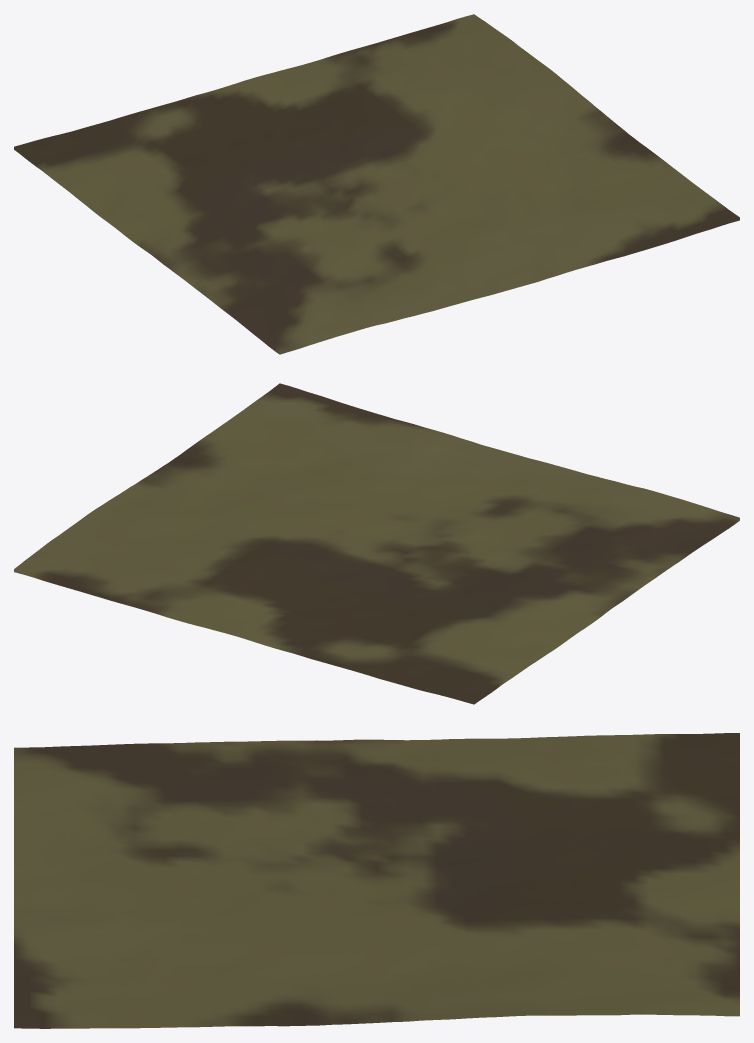
The model's file is land_m_15_07.glb.
3 renders of one model, top to bottom at view 1: azimuth 30°, elevation 25°; view 2: azimuth 150°, elevation 25°; view 3: azimuth 270°, elevation 25°, orthographic. The views are drawn at different scales.
Visible parts, largest first — view 1: land_m_15_07; view 2: land_m_15_07; view 3: land_m_15_07.
Part boxes in pixels (<box>): land_m_15_07: <box>14,14,739,354</box>; land_m_15_07: <box>14,383,739,704</box>; land_m_15_07: <box>14,733,739,1028</box>.
Size of the model in its own units: 960 by 69.88 by 960.
